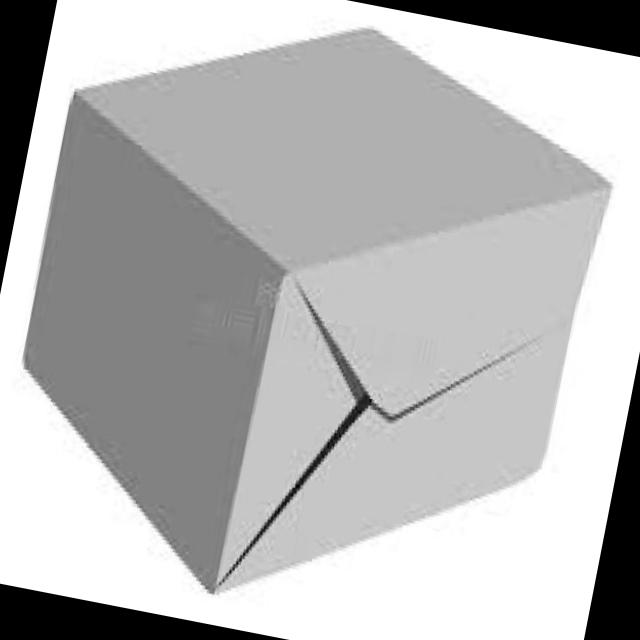cardboard paper: (26, 27, 611, 588)
